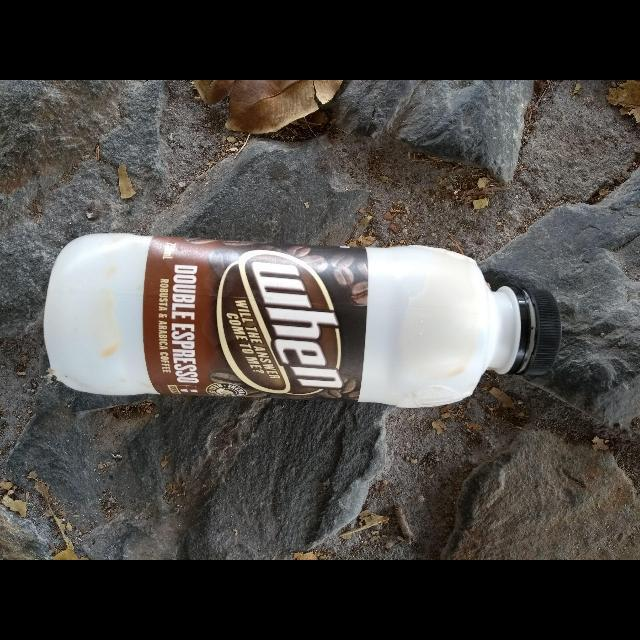Plastic: (44, 234, 562, 408), (516, 288, 562, 374)
